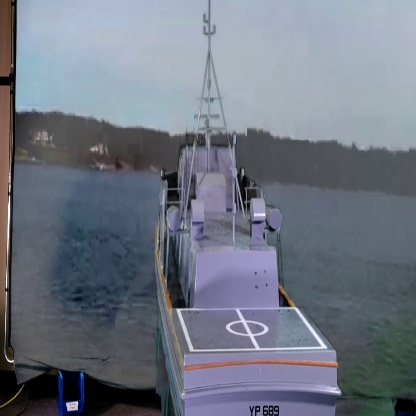YP689: (154, 0, 345, 416)
